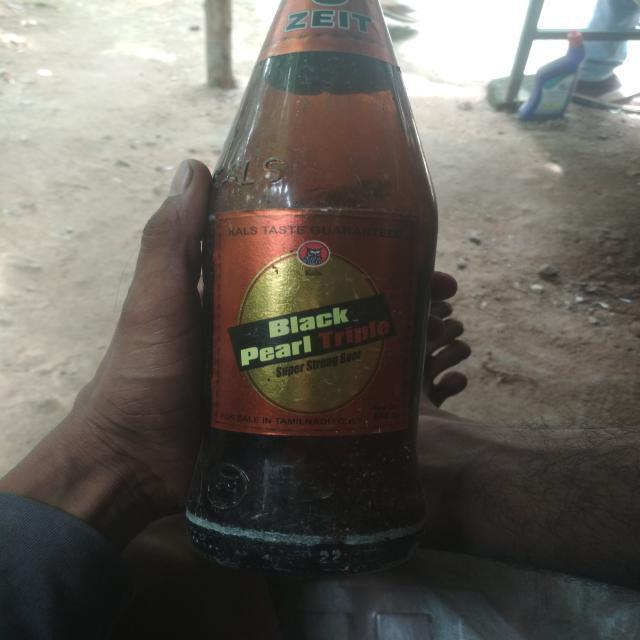Glass: (185, 0, 439, 581)
